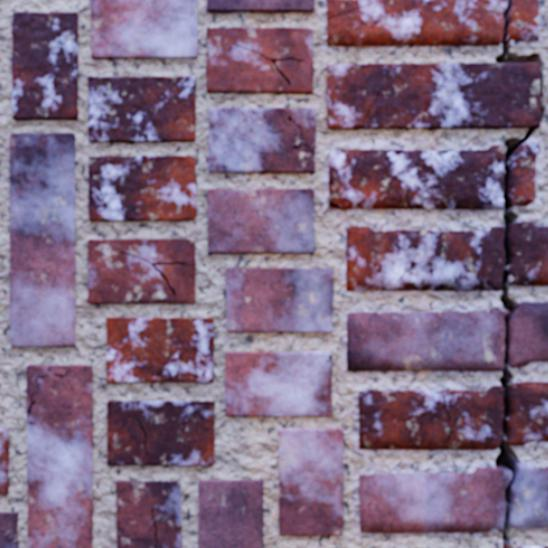brick: (10, 134, 76, 346), (327, 63, 539, 128), (28, 365, 93, 547), (207, 27, 313, 94), (12, 13, 78, 120), (89, 77, 195, 142), (89, 156, 195, 221), (88, 239, 194, 304), (209, 108, 315, 173), (107, 401, 214, 465), (107, 318, 213, 382), (227, 268, 333, 332), (279, 429, 343, 535), (226, 352, 331, 416), (208, 190, 314, 253), (91, 0, 198, 59), (199, 480, 263, 547), (117, 482, 181, 547), (208, 0, 314, 13), (28, 365, 47, 405), (0, 513, 18, 547), (0, 430, 9, 494)
broken_brick: (329, 145, 504, 210), (346, 306, 505, 371), (345, 226, 503, 290), (359, 467, 510, 533), (359, 386, 502, 450), (326, 0, 505, 46), (511, 381, 547, 446), (512, 222, 547, 286), (512, 303, 547, 366), (513, 463, 547, 527), (511, 142, 541, 205), (511, 0, 539, 41)
crack: (494, 0, 547, 547), (27, 365, 72, 427), (352, 86, 383, 129), (440, 390, 463, 444), (287, 115, 315, 154), (326, 4, 371, 21), (23, 133, 35, 141), (329, 201, 340, 209), (326, 354, 332, 363), (329, 180, 335, 184)
